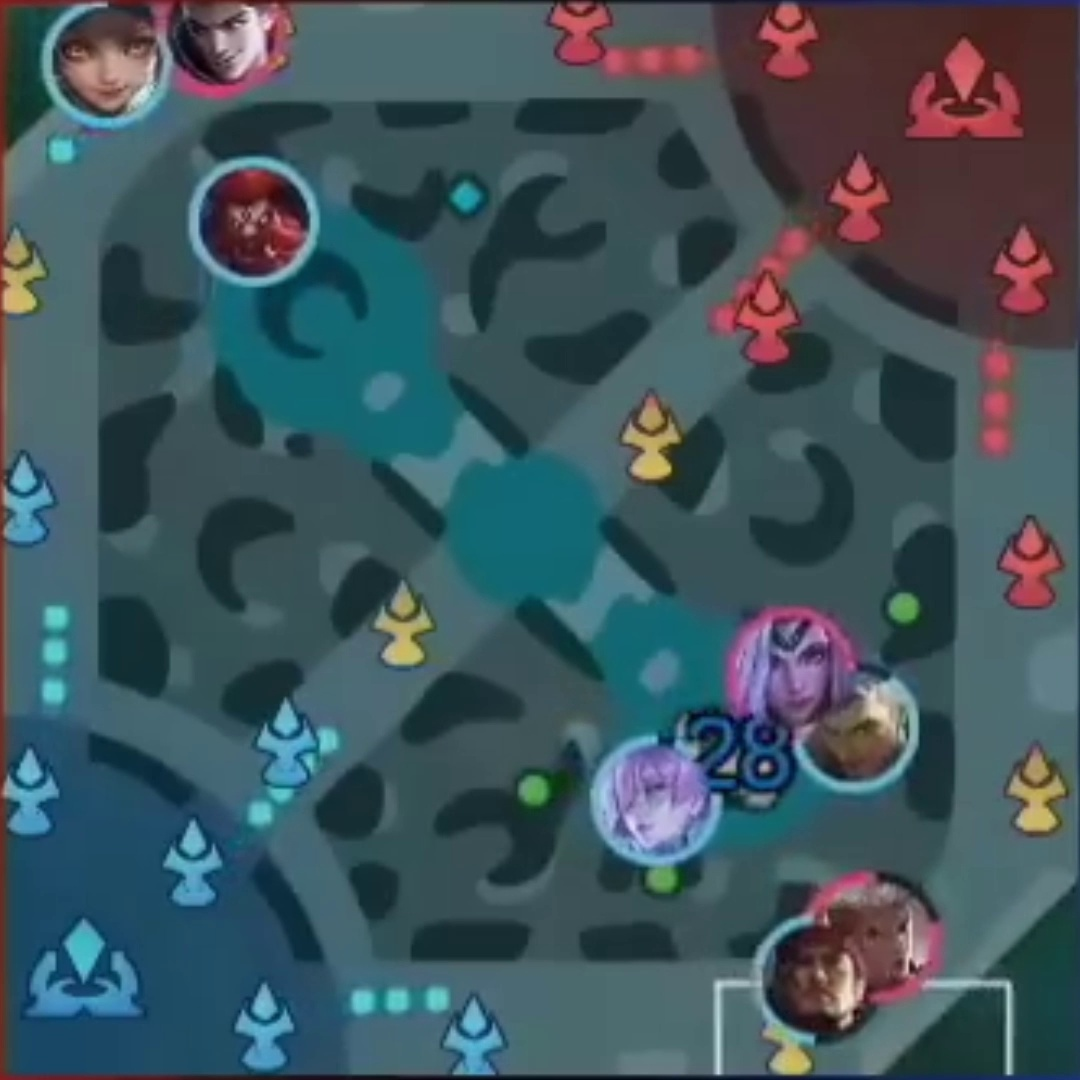Chou: (843, 885, 916, 991)
Claude: (183, 7, 265, 78)
Fredrinn: (818, 680, 896, 773)
Lapu-Lapu: (777, 932, 858, 1030)
Minotaur: (209, 175, 294, 267)
Novaria: (608, 757, 700, 847)
Valentina: (748, 621, 825, 722)
Wanwan: (63, 22, 150, 114)
